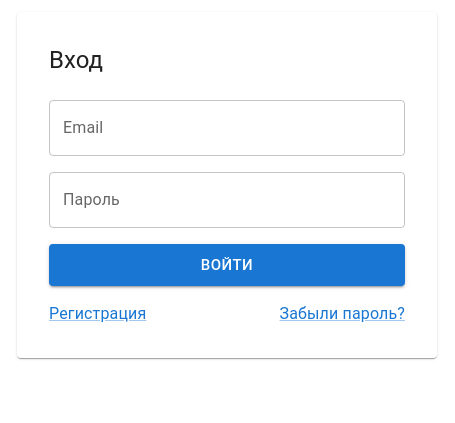
Test: LoginPage › показывает ошибки валидации и не отправляет пустую форму
This screenshot has width=455, height=423.
Click the button "Войти". click: (227, 265)
box: [49,244,405,286]
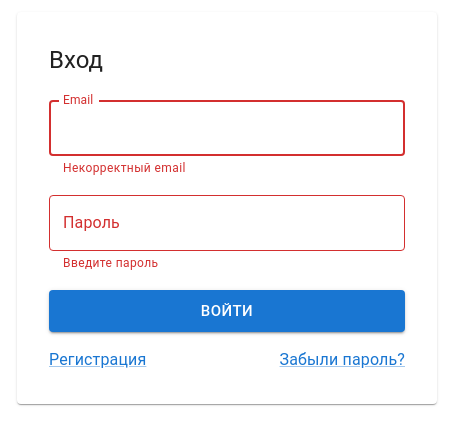
Check: the text "Некорректный email" is shown, box [63,161,186,175]
Check: the text "Введите пароль" is shown, box [63,256,158,270]
